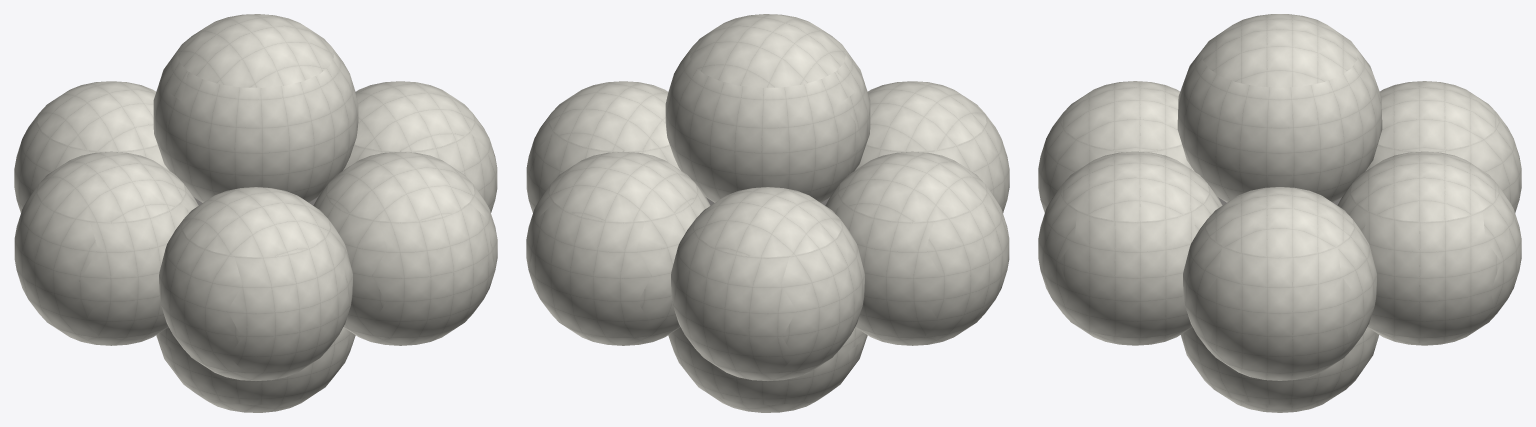
File: stage15_landing_airbags_s_deployed.glb
3 views of the same model, side by side, from view 1: azimuth 30°, elevation 25°; view 2: azimuth 150°, elevation 25°; view 3: azimuth 270°, elevation 25° (orthographic).
Parts seen in each view (by area): view 1: bag_ring, bag_bottom; view 2: bag_ring, bag_bottom; view 3: bag_ring, bag_bottom.
Part boxes in pixels (x1,y1,x2,y2): bag_ring: (14,81,497,380); bag_bottom: (153,14,358,412); bag_ring: (526,81,1009,380); bag_bottom: (665,14,870,412); bag_ring: (1038,81,1521,380); bag_bottom: (1177,14,1382,412).
Size of the model in its own units: 5.2 by 4.14 by 4.76.
3 materials, 3 textured.
